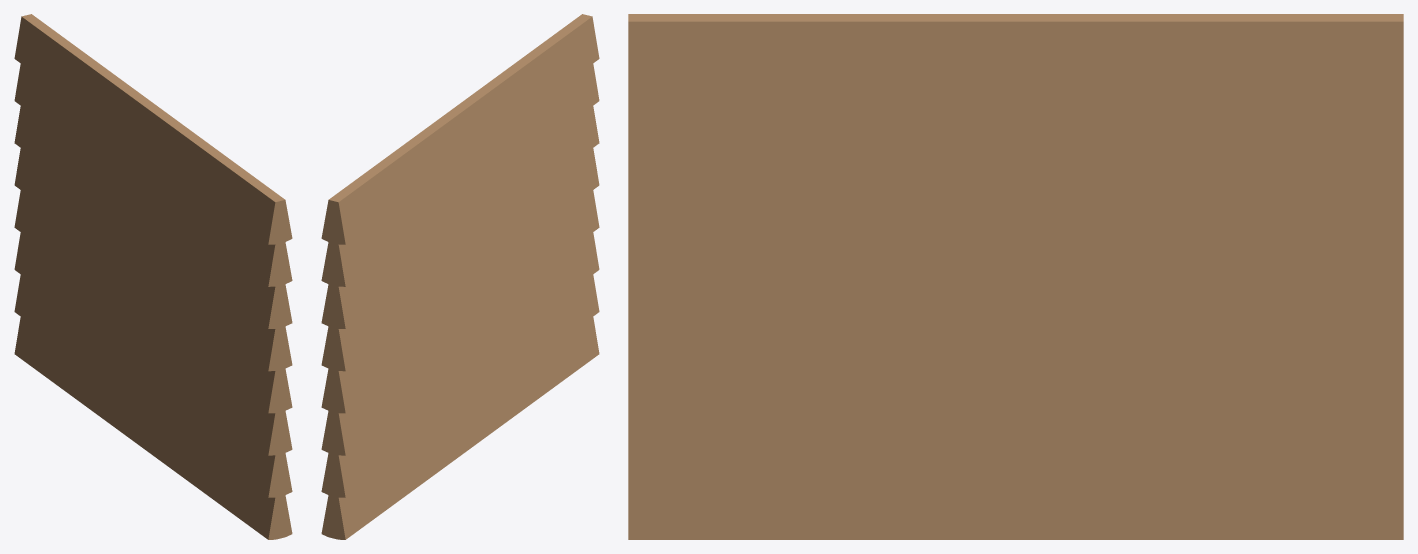
Rendered from Wall A-col.glb.
3 views of the same model, side by side, from view 1: azimuth 30°, elevation 25°; view 2: azimuth 150°, elevation 25°; view 3: azimuth 270°, elevation 25° (orthographic). The views are drawn at different scales.
Visible parts, largest first — view 1: Wall A-col.001; view 2: Wall A-col.001; view 3: Wall A-col.001.
Part boxes in pixels (<box>): Wall A-col.001: <box>14,14,292,539</box>; Wall A-col.001: <box>321,14,599,539</box>; Wall A-col.001: <box>628,14,1403,539</box>.
Size of the model in its own units: 0.165 by 2.2 by 3.
